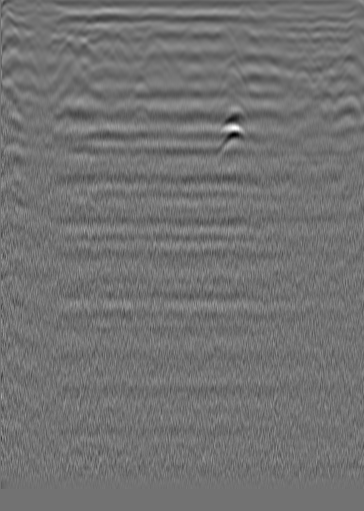가스: (211, 121, 249, 161)
상수: (292, 23, 312, 43)
오수: (20, 11, 40, 31)
우수: (145, 24, 165, 44)
